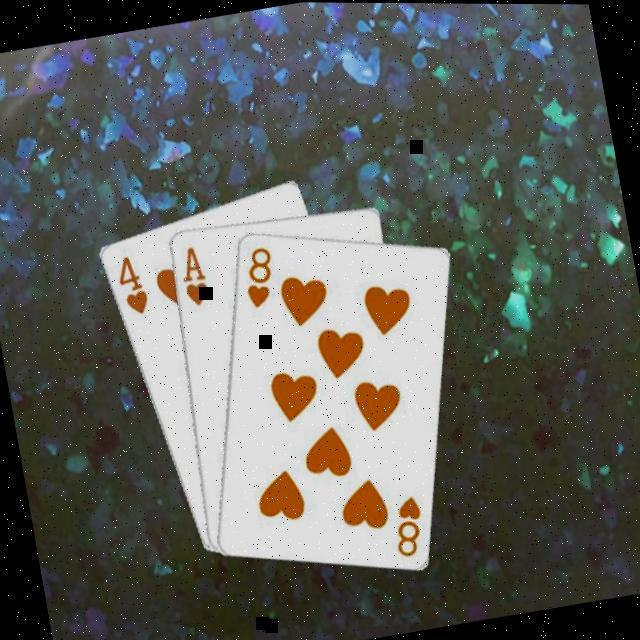4H: (107, 247, 151, 318)
8H: (233, 238, 280, 310), (382, 488, 429, 558)
AH: (170, 239, 210, 307)
